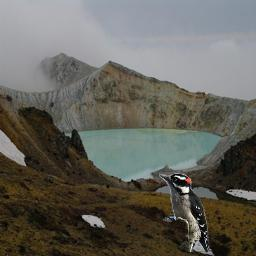Woodpecker: (159, 173, 210, 252)
